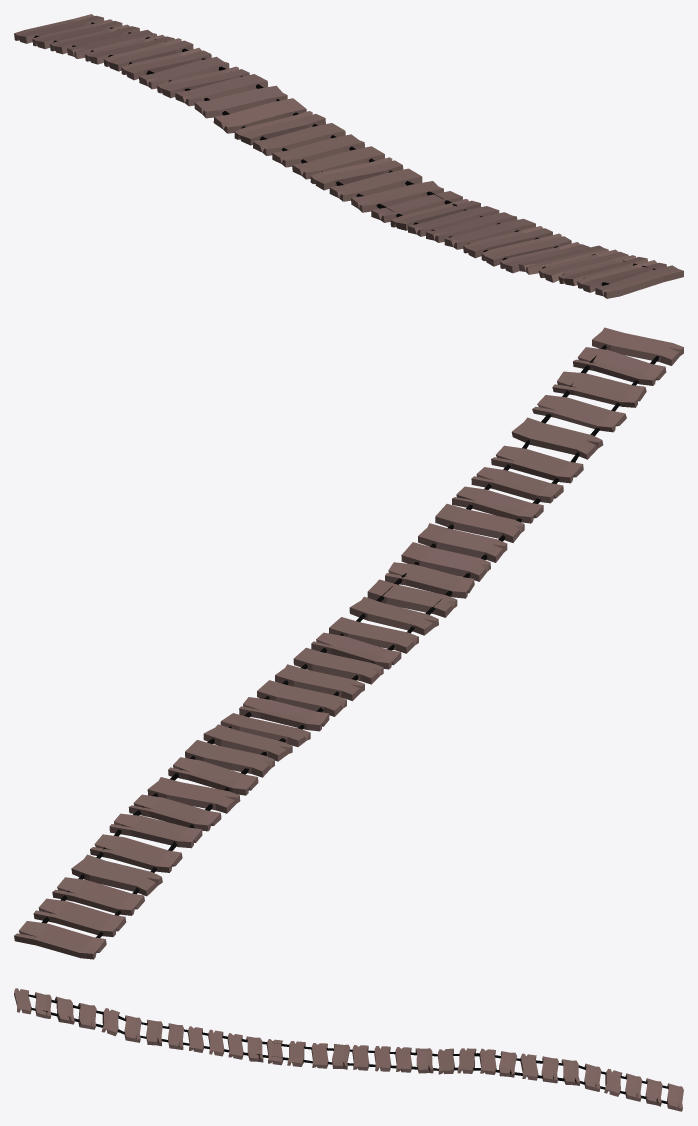
The model's file is BridgeOLD.fbx.
3 views of the same model, one above another, from view 1: azimuth 30°, elevation 25°; view 2: azimuth 150°, elevation 25°; view 3: azimuth 270°, elevation 25° (orthographic). The views are drawn at different scales.
Parts seen in each view (by area): view 1: Bridge; view 2: Bridge; view 3: Bridge.
Boxes of the visible parts, box(x1,y1,x2,y2) form: Bridge: box(14, 14, 683, 298); Bridge: box(14, 327, 683, 959); Bridge: box(14, 988, 683, 1111).
Size of the model in its own units: 793 by 1571 by 9246.
